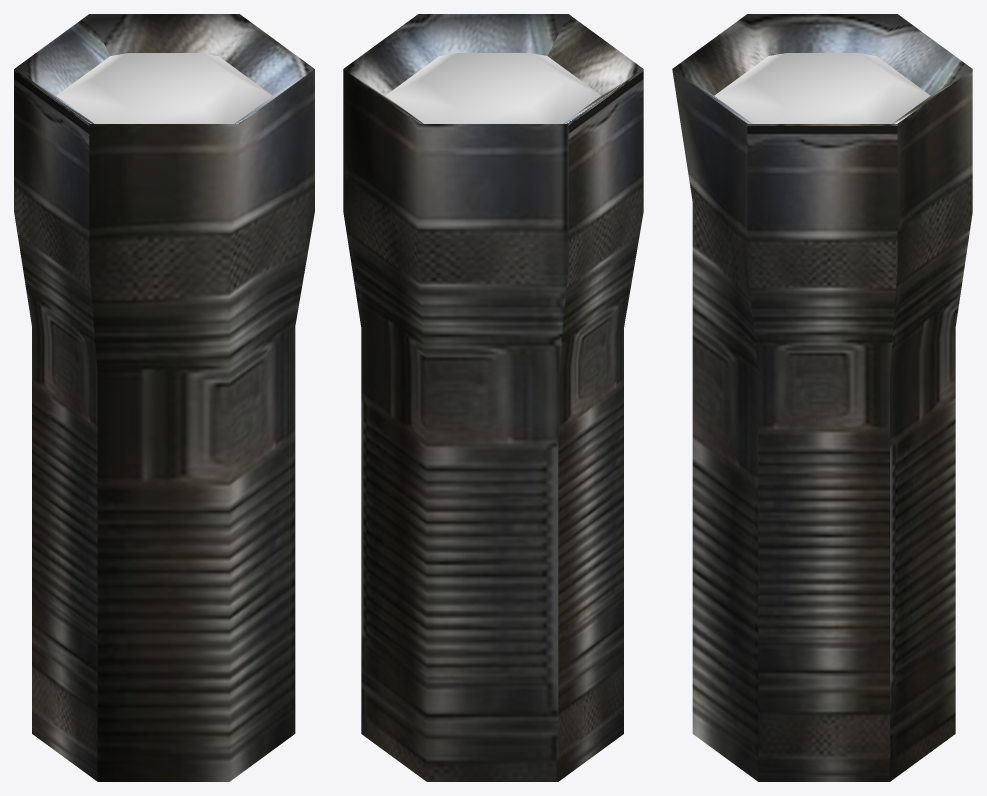
The model's file is FlashLight.fbx.
The picture shows the model from 3 angles, left to right: view 1: azimuth 30°, elevation 25°; view 2: azimuth 150°, elevation 25°; view 3: azimuth 270°, elevation 25°; orthographic projection.
Parts seen in each view (by area): view 1: Cylinder; view 2: Cylinder; view 3: Cylinder.
Part boxes in pixels (x1,y1,x2,y2): Cylinder: (14,14,314,781); Cylinder: (343,14,643,781); Cylinder: (672,14,972,781).
Size of the model in its own units: 45.29 by 128 by 52.29.
